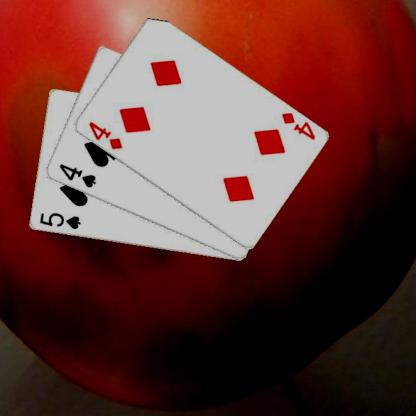4D: (86, 119, 123, 151), (278, 110, 316, 141)
4S: (56, 162, 97, 189)
5S: (36, 210, 82, 231)
